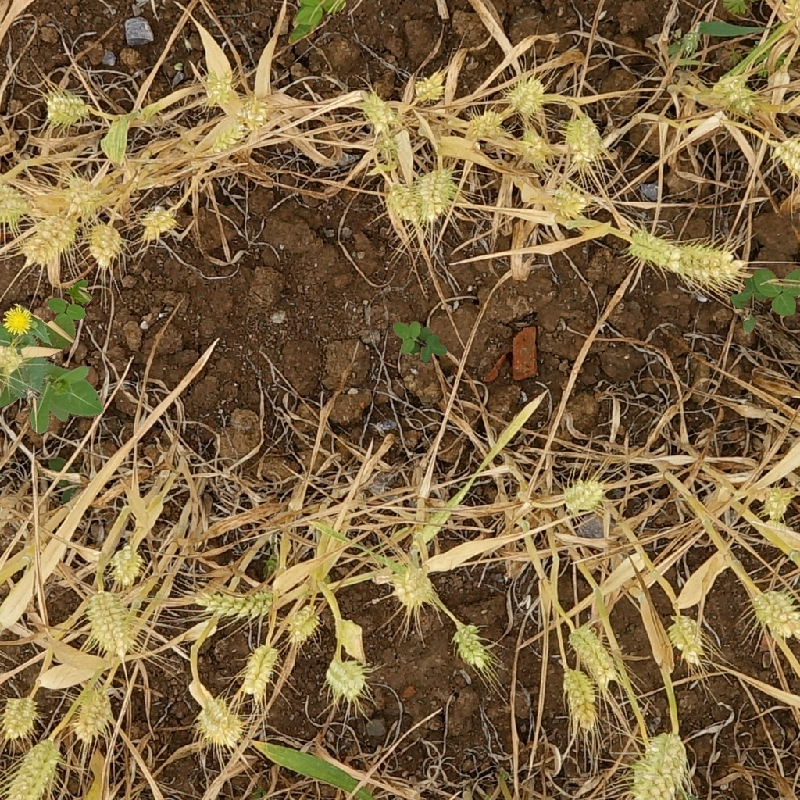spikelet: (628, 730, 690, 799), (3, 736, 61, 799), (84, 589, 136, 658), (568, 622, 618, 686), (668, 241, 743, 282), (22, 211, 77, 266), (71, 681, 114, 743), (560, 666, 600, 732), (200, 585, 276, 619), (751, 587, 799, 638), (239, 640, 280, 699), (195, 697, 243, 747), (563, 112, 604, 166), (627, 228, 681, 269), (417, 166, 456, 222), (666, 612, 706, 666), (324, 655, 368, 701), (391, 561, 434, 608), (710, 72, 757, 115), (451, 621, 491, 670), (86, 219, 125, 269), (1, 693, 39, 740), (63, 172, 104, 214), (561, 475, 607, 512), (43, 89, 90, 125), (384, 180, 421, 223), (506, 75, 545, 115), (360, 91, 400, 130), (285, 603, 322, 644), (549, 183, 590, 220), (109, 543, 144, 586), (139, 203, 178, 241), (772, 134, 800, 182), (1, 177, 30, 222), (761, 483, 796, 520), (465, 108, 503, 142), (517, 130, 551, 167), (201, 69, 234, 106), (236, 96, 271, 129), (413, 69, 446, 103)
weed: (1, 278, 103, 433), (738, 266, 800, 322), (283, 1, 344, 46), (393, 321, 447, 362), (661, 20, 705, 63)
